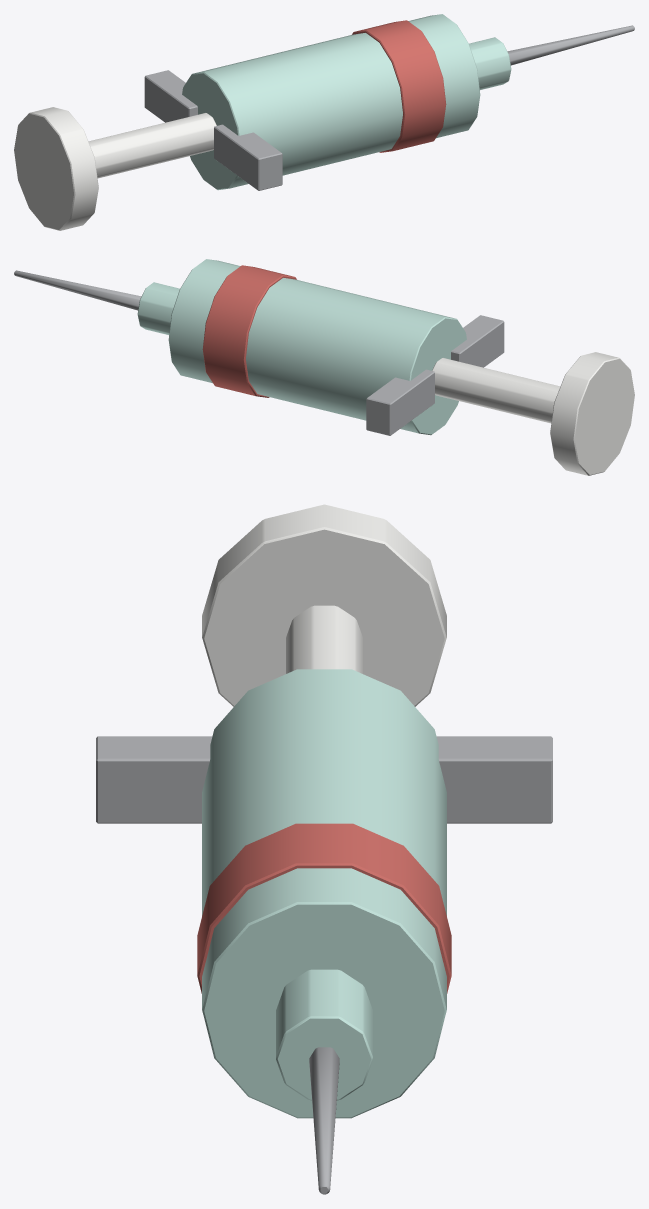
File: IT_antidote.fbx
The picture shows the model from 3 angles, top to bottom: view 1: azimuth 30°, elevation 25°; view 2: azimuth 150°, elevation 25°; view 3: azimuth 270°, elevation 25°; orthographic projection. The views are drawn at different scales.
Visible parts, largest first — view 1: IT_antidote; view 2: IT_antidote; view 3: IT_antidote.
Part boxes in pixels (x1,y1,x2,y2): IT_antidote: (14, 14, 634, 230); IT_antidote: (14, 259, 634, 475); IT_antidote: (96, 504, 552, 1194).
Bounding box in the file's own units: 0.835 × 0.1521 × 0.28.
